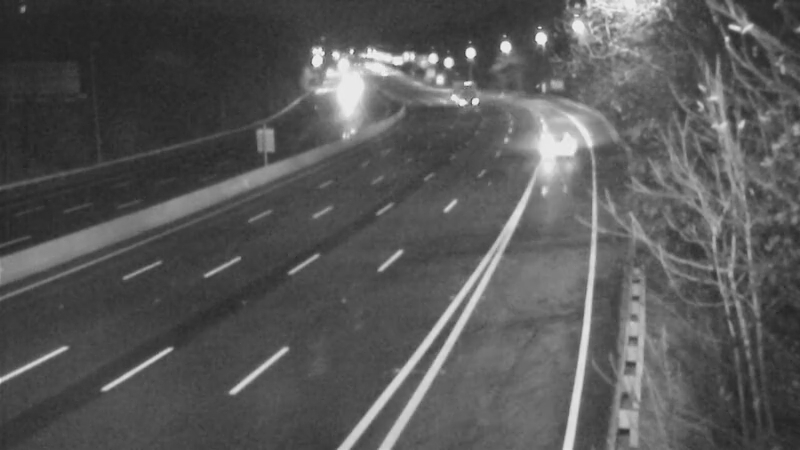vehicle: (431, 66, 481, 116), (533, 120, 583, 170), (323, 64, 373, 114)
